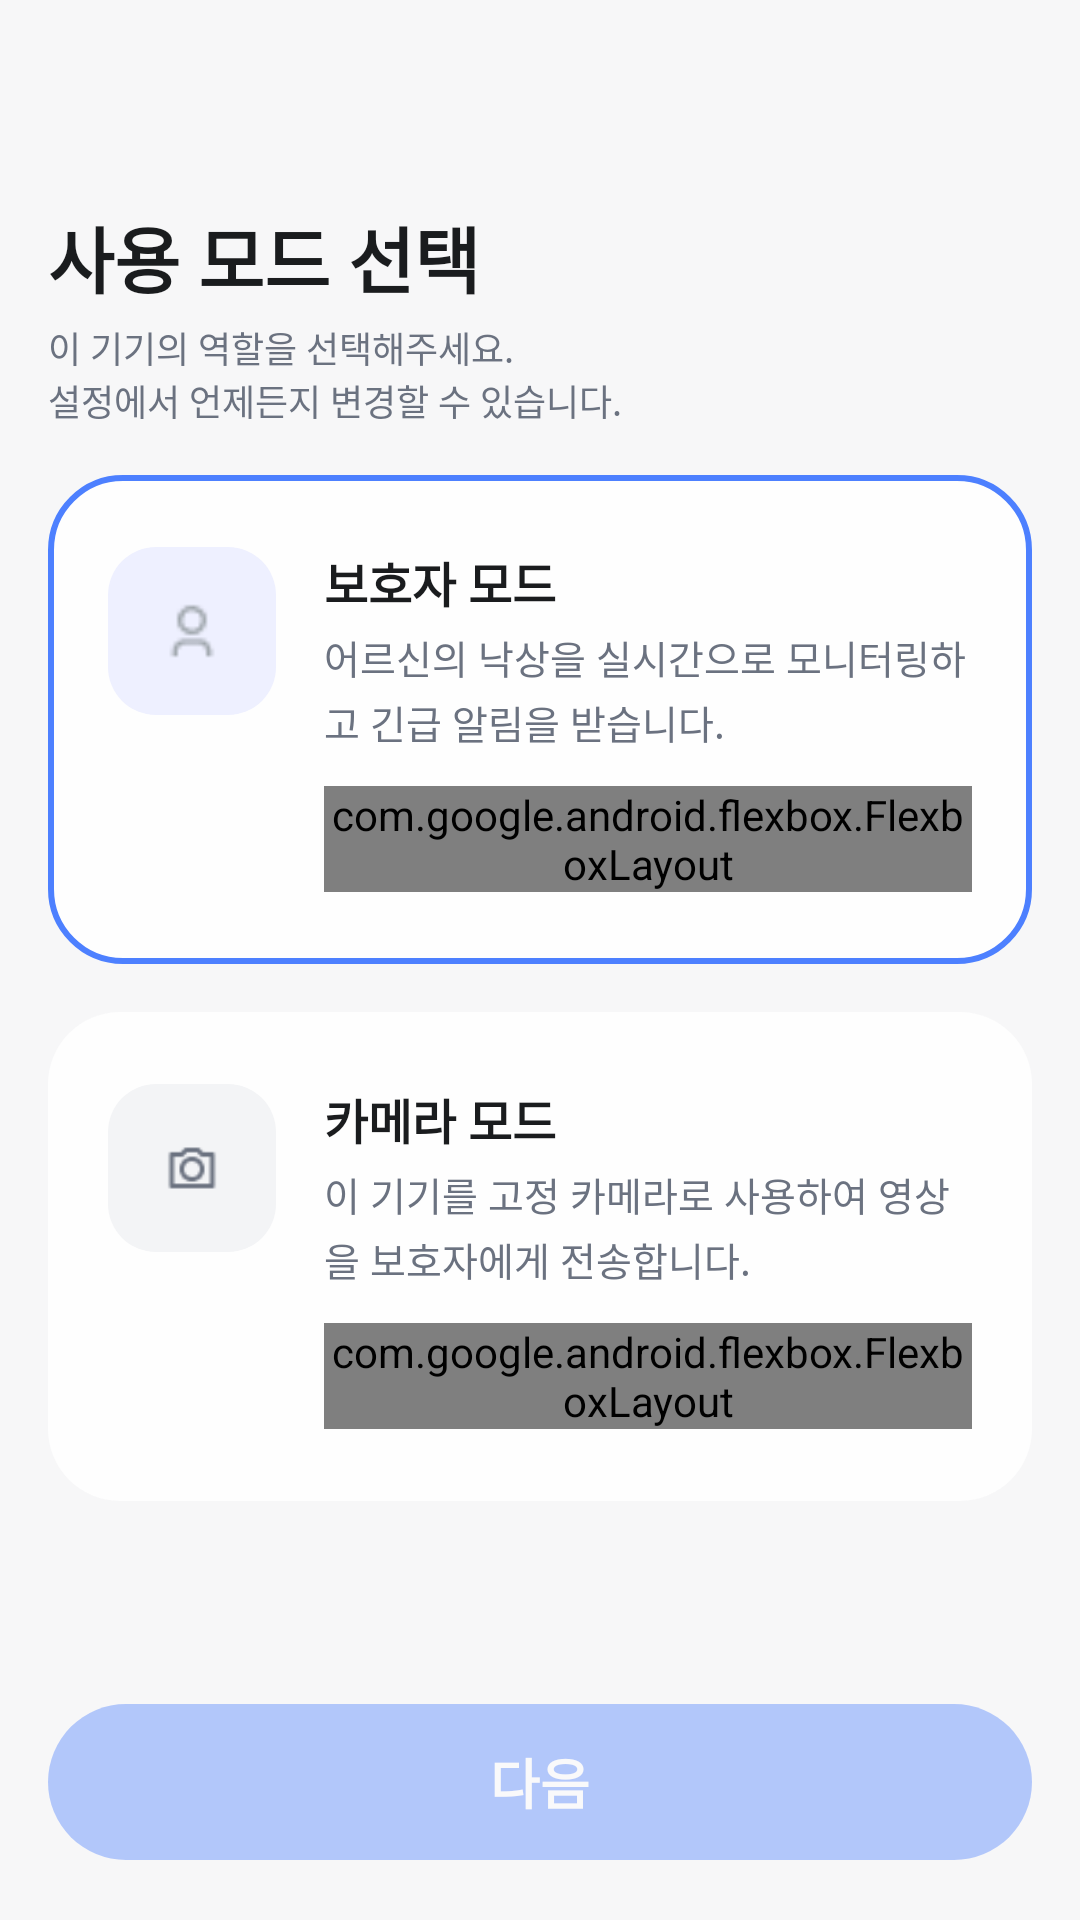

Icons on this 1080 × 1920 Android screen, each with the point to tap as [x,y]:
보호자 아이콘: [192,631]
카메라 아이콘: [192,1168]
